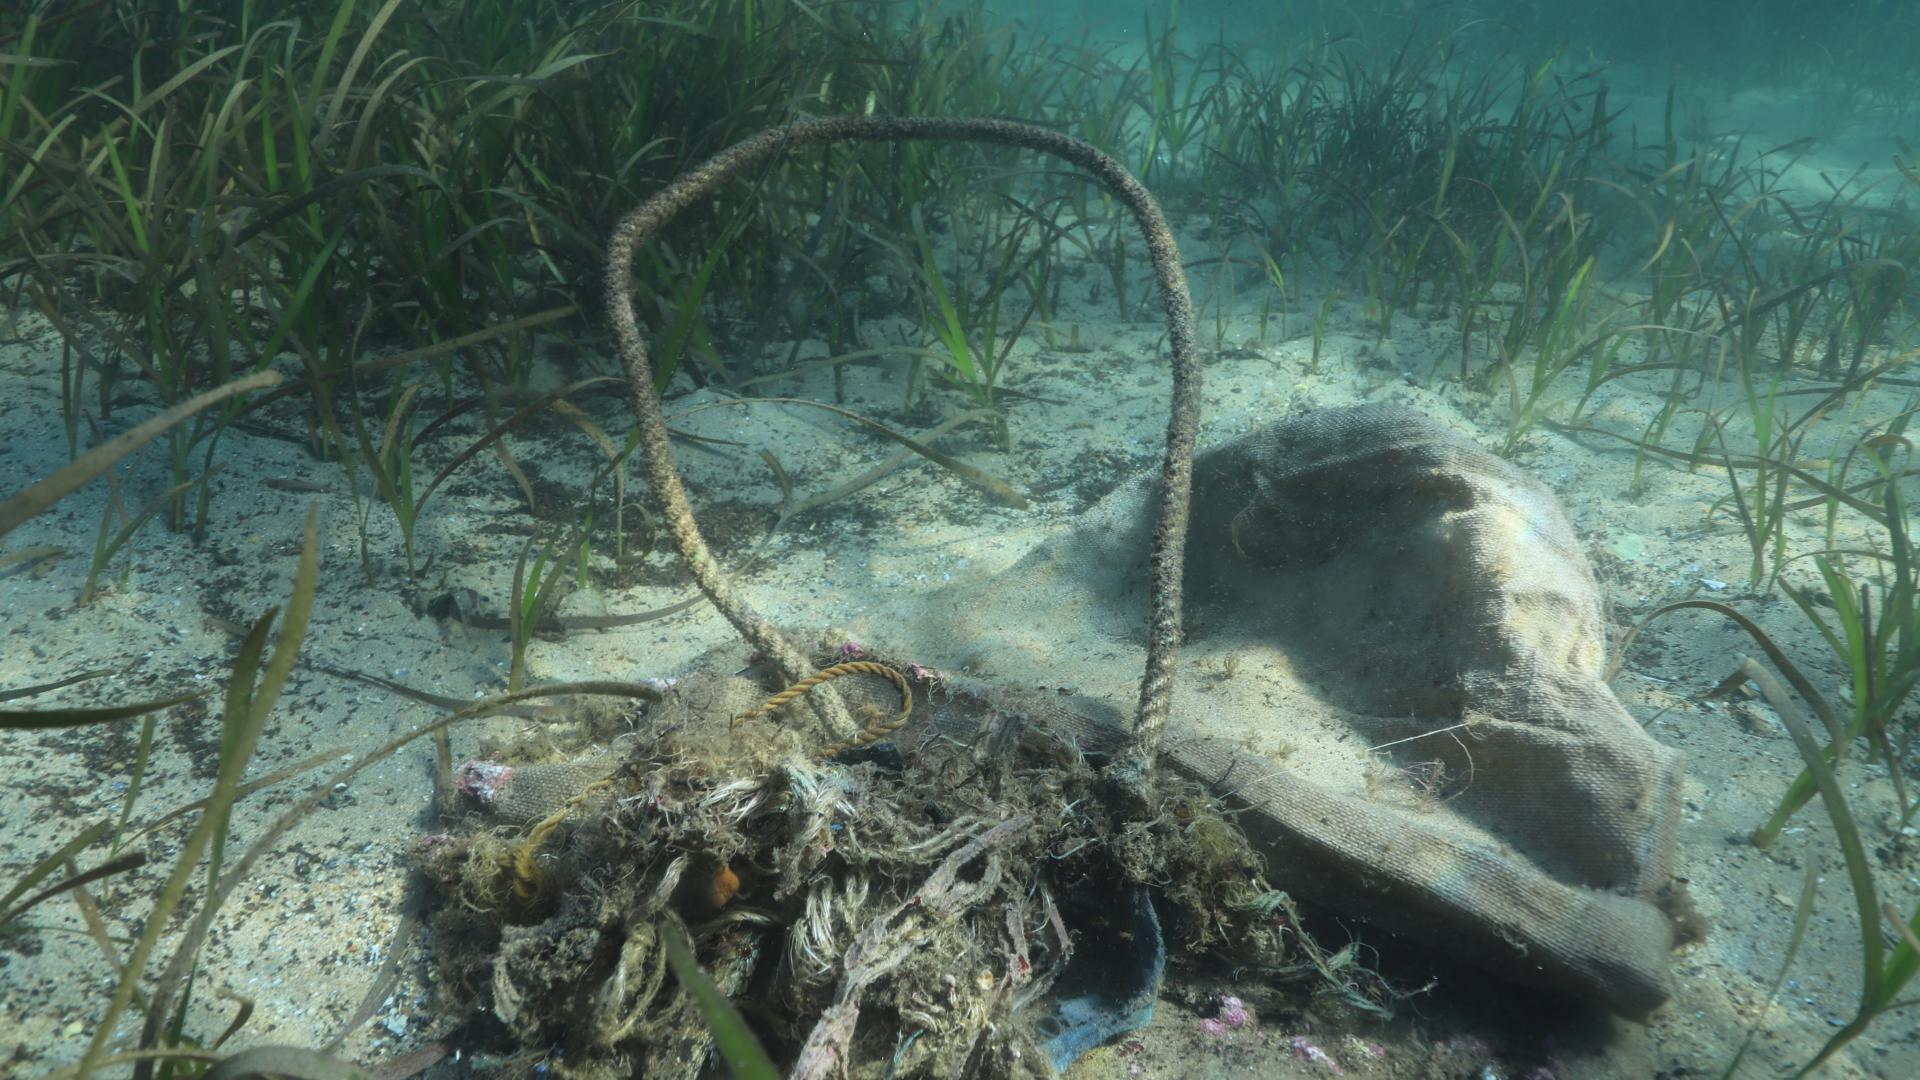rope: (595, 108, 1203, 793), (725, 655, 916, 761)
